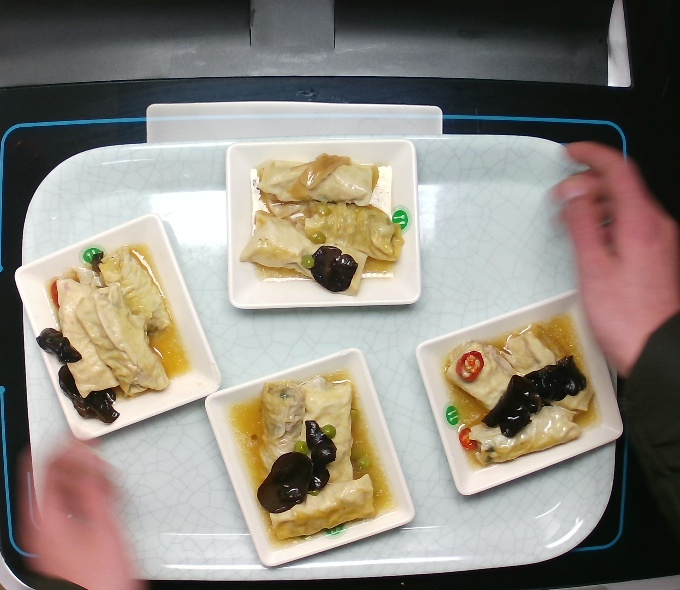wcq-QianZhangBao: (221, 365, 398, 552), (31, 237, 198, 428), (434, 304, 610, 480), (233, 148, 409, 300)
